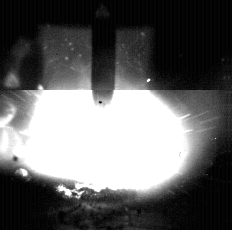arame: (93, 0, 116, 108)
poca: (23, 0, 189, 230)
